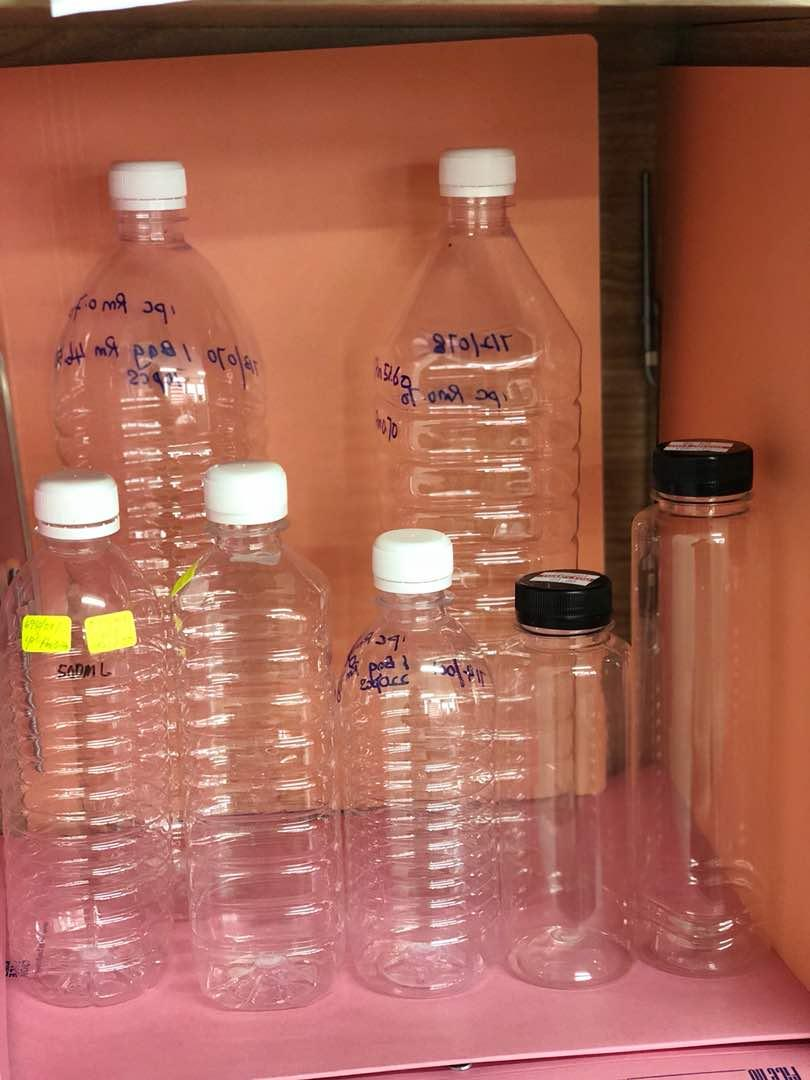plastic: (9, 161, 338, 1010), (2, 473, 179, 1005), (373, 148, 593, 563), (175, 518, 339, 1010), (338, 529, 496, 996), (629, 439, 758, 975), (499, 570, 630, 988)
